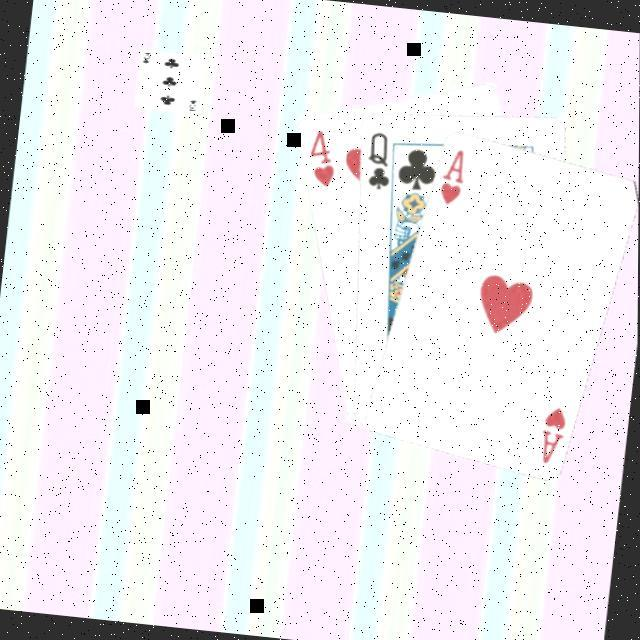4H: (300, 122, 340, 188)
AH: (432, 141, 468, 207), (533, 399, 569, 465)
QC: (359, 125, 395, 191)
